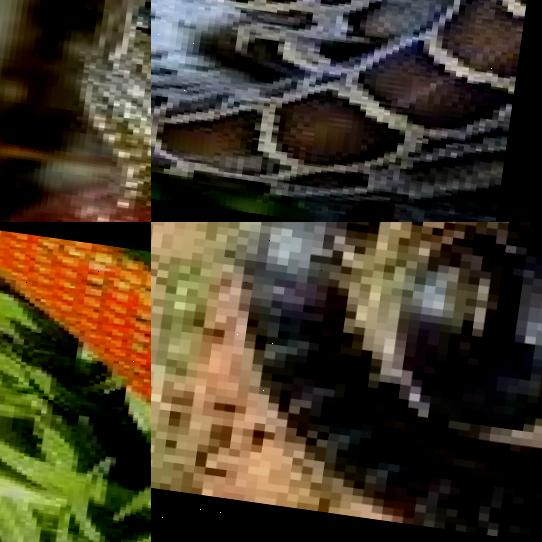2: (0, 222, 151, 542), (0, 0, 151, 222)
5: (151, 222, 542, 542)
snake: (151, 0, 542, 214)
